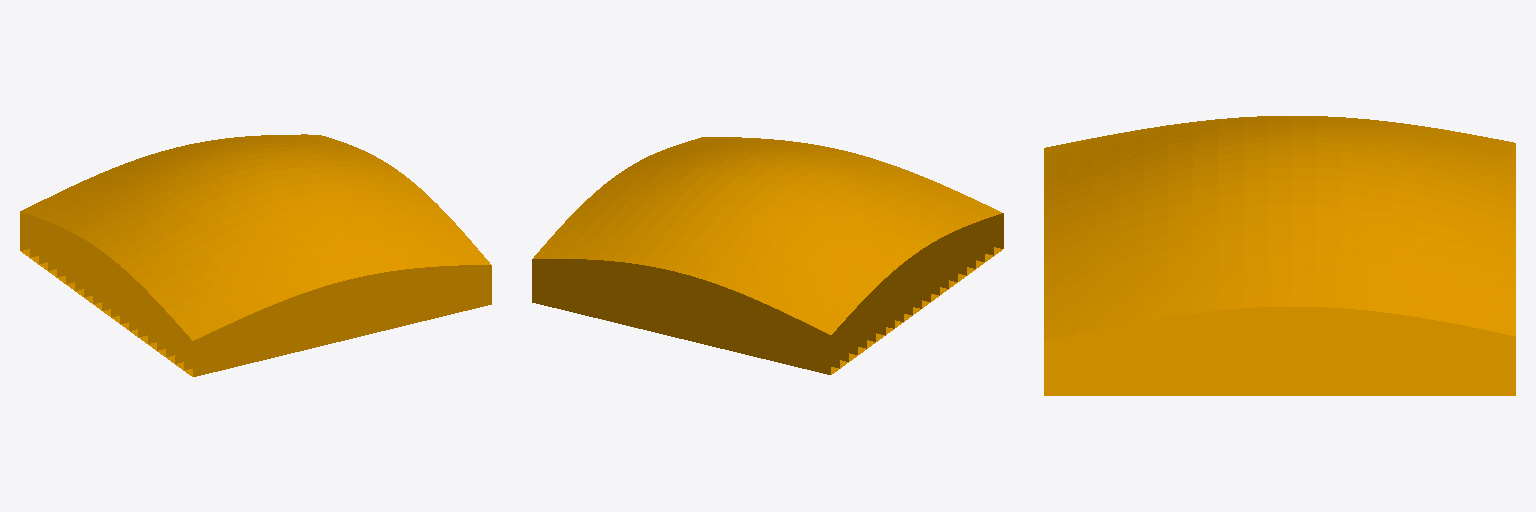
robot.urdf — gentle_mountain:
<?xml version="1.0"?>
<robot name="gentle_mountain">
  <link name="baseLink">
    <inertial>
      <origin xyz="0 0 0" rpy="0 0 0"/>
      <mass value="1"/>
      <inertia ixx="1" ixy="0" ixz="0" iyy="1" iyz="0" izz="1"/>
    </inertial>
    <visual>
      <origin xyz="0 0 0" rpy="0 0 0"/>
      <geometry>
        <mesh filename="gentle_mountain.obj" scale="1 1 1"/>
      </geometry>
    </visual>
    <collision>
      <origin xyz="0 0 0" rpy="0 0 0"/>
      <geometry>
        <mesh filename="gentle_mountain.obj" scale="1 1 1"/>
      </geometry>
    </collision>
  </link>
</robot>

--- What the picture shows (computed from the rendered views, not written in the file) ---
The picture shows the robot from 3 angles, left to right: view 1: azimuth 30°, elevation 25°; view 2: azimuth 150°, elevation 25°; view 3: azimuth 270°, elevation 25°; orthographic projection.
Model gentle_mountain with 1 links and 0 joints (none), rooted at baseLink, posed all joints at 0.
Visible links, largest first — view 1: baseLink; view 2: baseLink; view 3: baseLink.
Boxes of the visible links, <box> form: baseLink: <box>20,134,491,376</box>; baseLink: <box>532,137,1003,374</box>; baseLink: <box>1044,116,1515,395</box>.
Size in the robot's own frame: 9.5 by 9.5 by 3 metres.
1 mesh visuals loaded from 1 distinct referenced files (1 OBJ).
